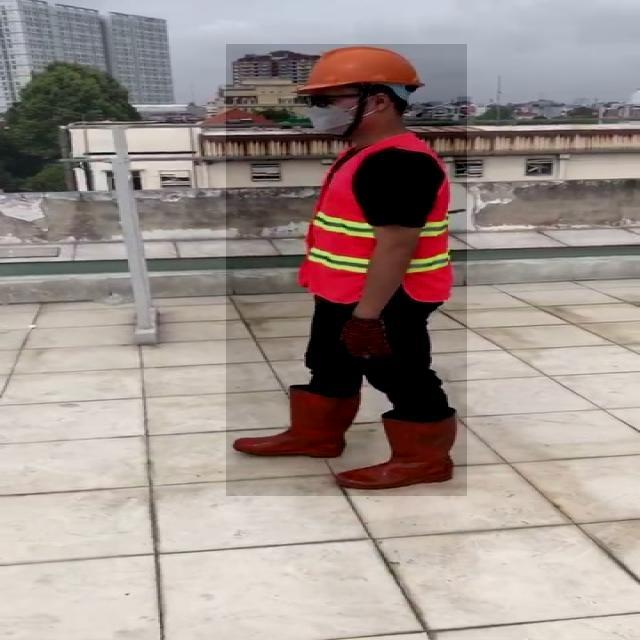Gloves: (338, 316, 394, 359)
Helmet: (295, 46, 431, 92)
Human: (226, 44, 467, 496)
Safety Boot: (230, 385, 358, 458), (341, 419, 457, 491)
Safety Vest: (302, 140, 454, 303)
